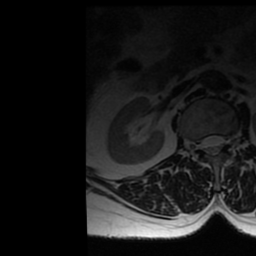CCS_normal: (208, 128, 217, 160)
LFS_normal: (224, 130, 232, 150)
LLS_normal: (217, 129, 225, 156)
RFS_normal: (193, 134, 201, 155)
RLS_normal: (200, 130, 208, 155)
